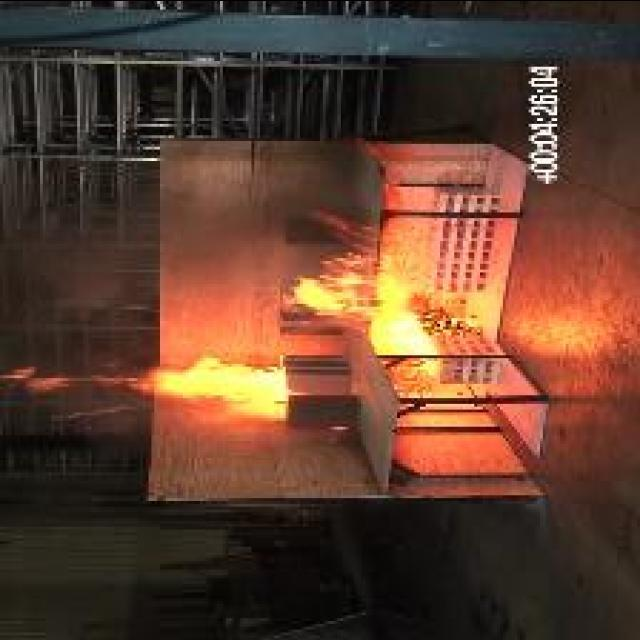Fire: (290, 210, 433, 353), (4, 357, 287, 417)
